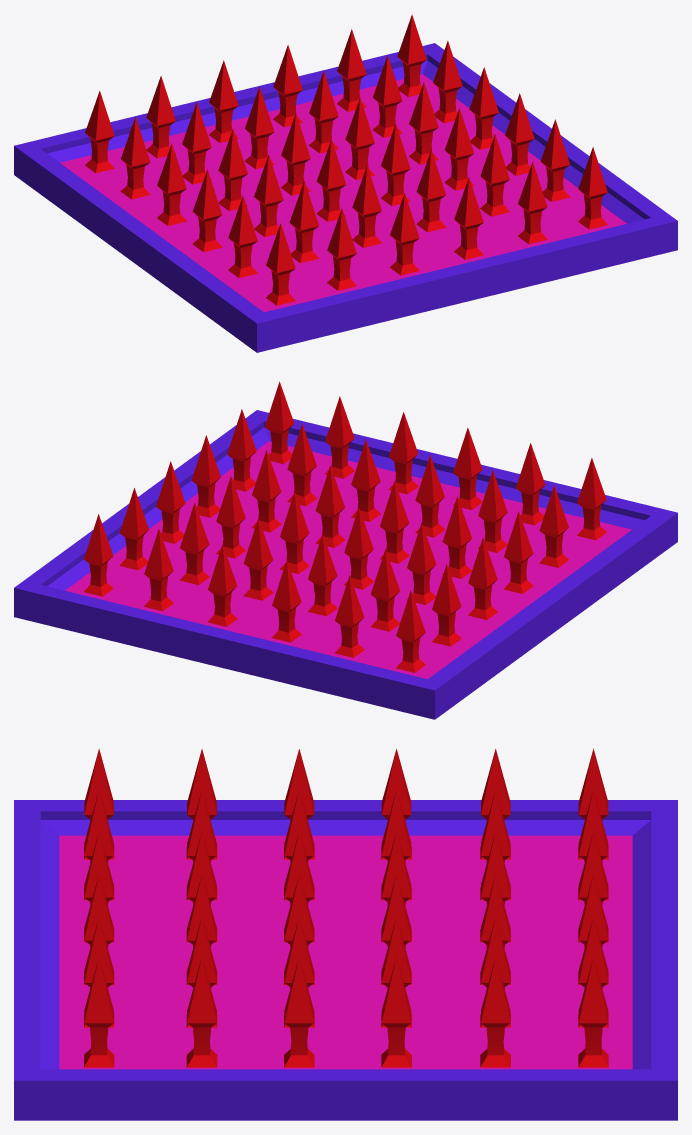
Rendered from SpikesUVID.fbx.
3 renders of one model, top to bottom at view 1: azimuth 30°, elevation 25°; view 2: azimuth 150°, elevation 25°; view 3: azimuth 270°, elevation 25°, orthographic. The views are drawn at different scales.
Parts seen in each view (by area): view 1: Floor, Spikes; view 2: Floor, Spikes; view 3: Floor, Spikes.
Part boxes in pixels (x1,y1,x2,y2): Floor: (14, 43, 677, 352); Spikes: (85, 14, 607, 305); Floor: (14, 410, 677, 719); Spikes: (84, 381, 606, 672); Floor: (14, 800, 677, 1120); Spikes: (84, 748, 608, 1067).
Bounding box in the file's own units: 200 × 42.68 × 200.
